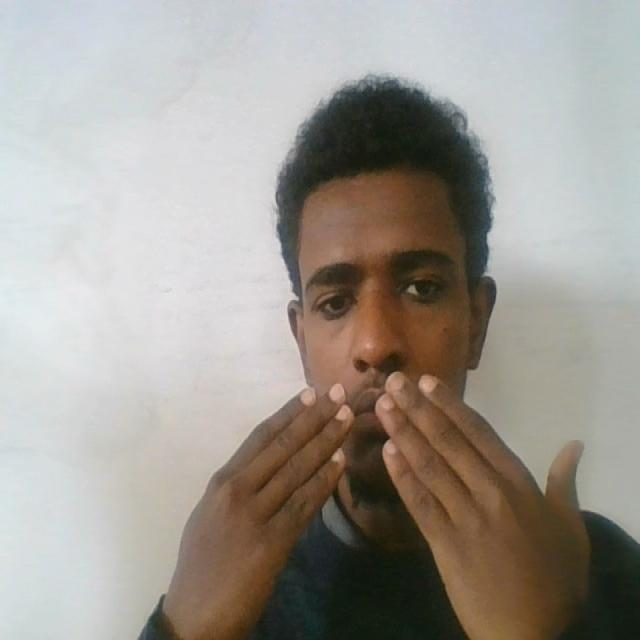thanks: (130, 382, 628, 640)
